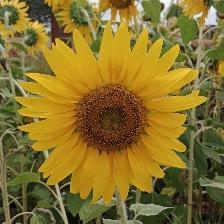sunflower: (18, 20, 214, 205)
